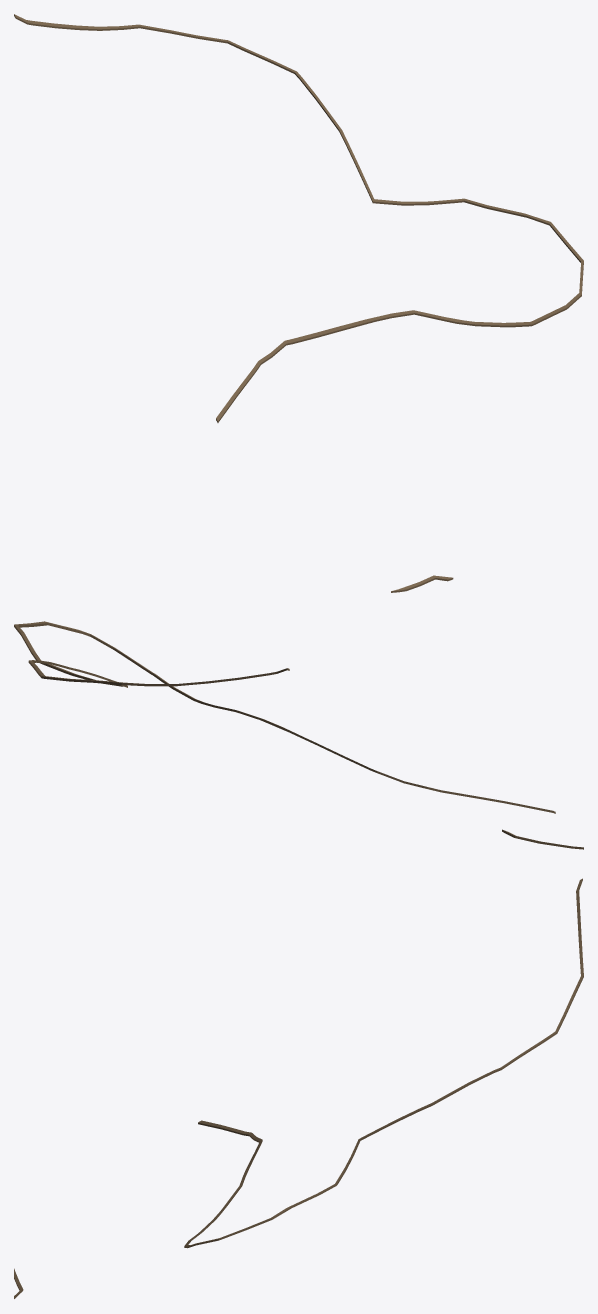
The model's file is 15-27361-14876.3c16feab.glb.
3 views of the same model, one above another, from view 1: azimuth 30°, elevation 25°; view 2: azimuth 150°, elevation 25°; view 3: azimuth 270°, elevation 25° (orthographic). The views are drawn at different scales.
Size of the model in its own units: 166 by 159 by 230.
